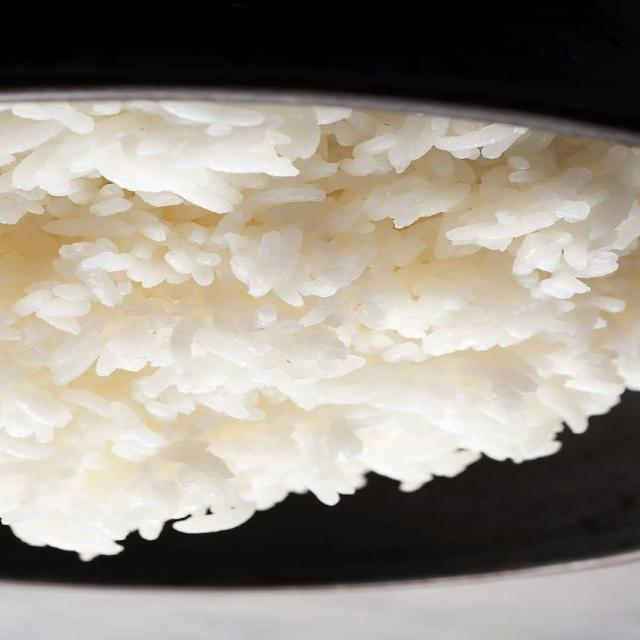nasi_putih: (0, 72, 622, 554)
